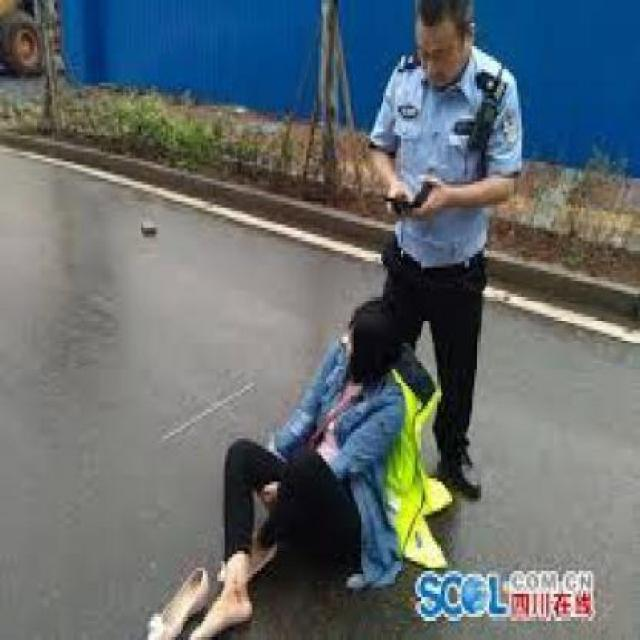fall: (131, 264, 427, 636)
